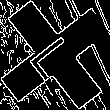L_NE: (26, 27, 84, 83)
